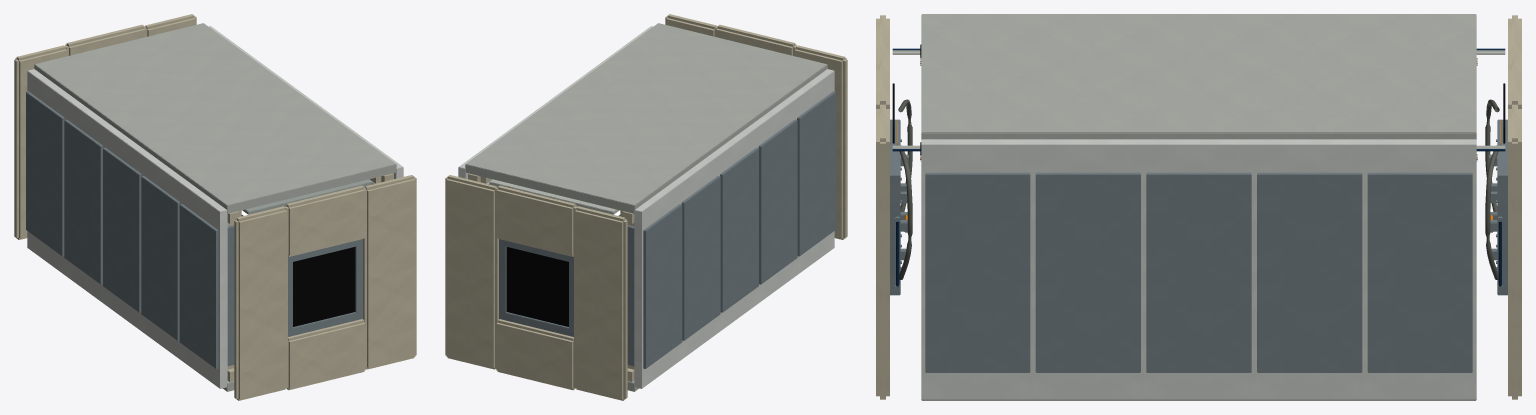
File: columbus.glb
The picture shows the model from 3 angles, left to right: view 1: azimuth 30°, elevation 25°; view 2: azimuth 150°, elevation 25°; view 3: azimuth 270°, elevation 25°; orthographic projection. The views are drawn at different scales.
Visible parts, largest first — view 1: columbus_detailed; view 2: columbus_detailed; view 3: columbus_detailed.
Part boxes in pixels (x1,y1,x2,y2): columbus_detailed: (14,14,416,400); columbus_detailed: (445,14,847,400); columbus_detailed: (876,14,1521,400).
Size of the model in its own units: 3.18 by 3 by 6.54.
Materials: 25 (15 with a texture image).
